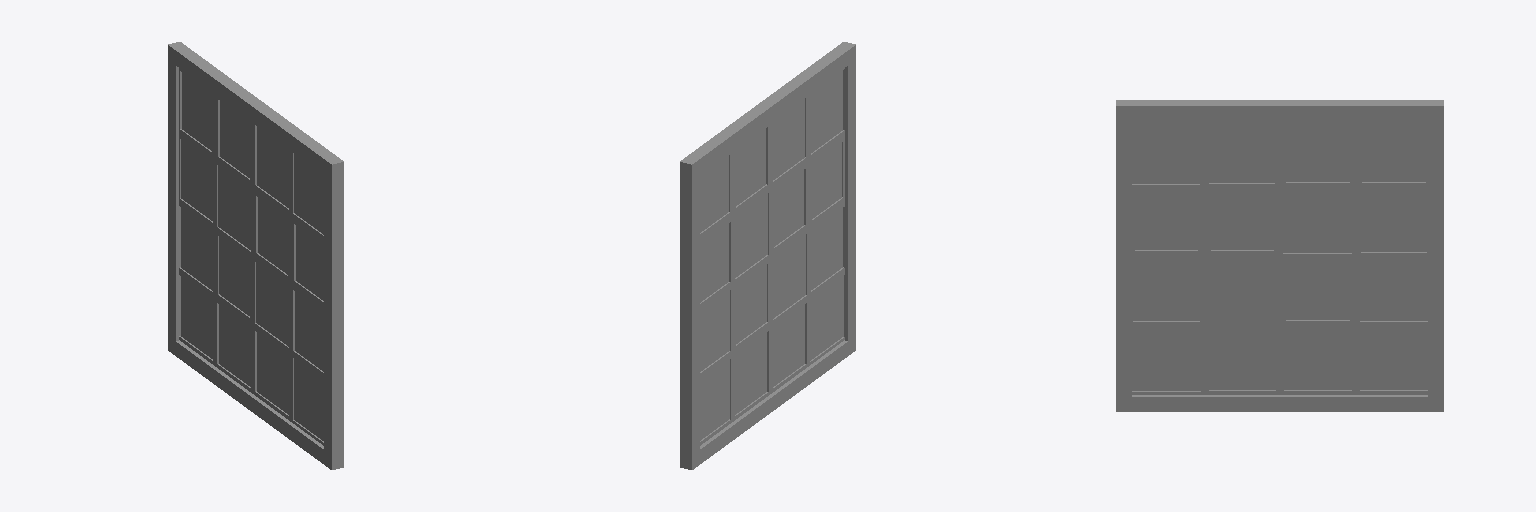
File: window.obj
3 views of the same model, side by side, from view 1: azimuth 30°, elevation 25°; view 2: azimuth 150°, elevation 25°; view 3: azimuth 270°, elevation 25° (orthographic).
Parts seen in each view (by area): view 1: Plane.004_Plane.006, Plane_Plane.004, Plane.003_Plane.005; view 2: Plane.004_Plane.006, Plane_Plane.004, Plane.003_Plane.005; view 3: Plane.004_Plane.006, Plane_Plane.004, Plane.003_Plane.005.
Part boxes in pixels (left/top/right/bottom): Plane.004_Plane.006: left=181, top=73, right=323, bottom=440; Plane_Plane.004: left=168, top=42, right=343, bottom=469; Plane.003_Plane.005: left=179, top=68, right=323, bottom=445; Plane.004_Plane.006: left=700, top=71, right=843, bottom=440; Plane_Plane.004: left=680, top=42, right=855, bottom=469; Plane.003_Plane.005: left=700, top=68, right=844, bottom=445; Plane.004_Plane.006: left=1132, top=123, right=1427, bottom=390; Plane_Plane.004: left=1116, top=100, right=1443, bottom=411; Plane.003_Plane.005: left=1132, top=121, right=1427, bottom=394.
Size of the model in its own units: 0.0649 by 1.52 by 1.48.